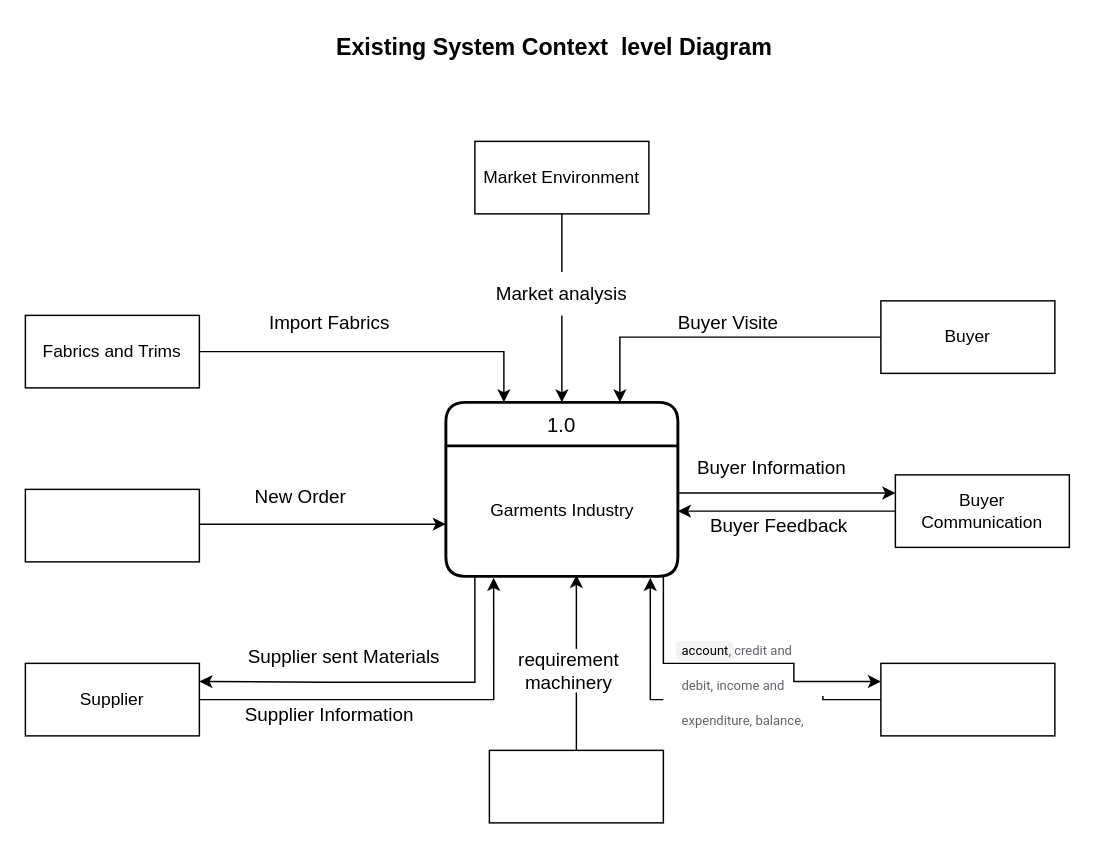
Some shapes in this 1095 by 848 pixel diagram are drawn without their labels. Here are the shapes that lost their labels. From the top down, the centre of each, then its label:
At pixel 111 525: "Order".
At pixel 967 699: "Account Section".
At pixel 575 786: "Tools/ Equipment's".
